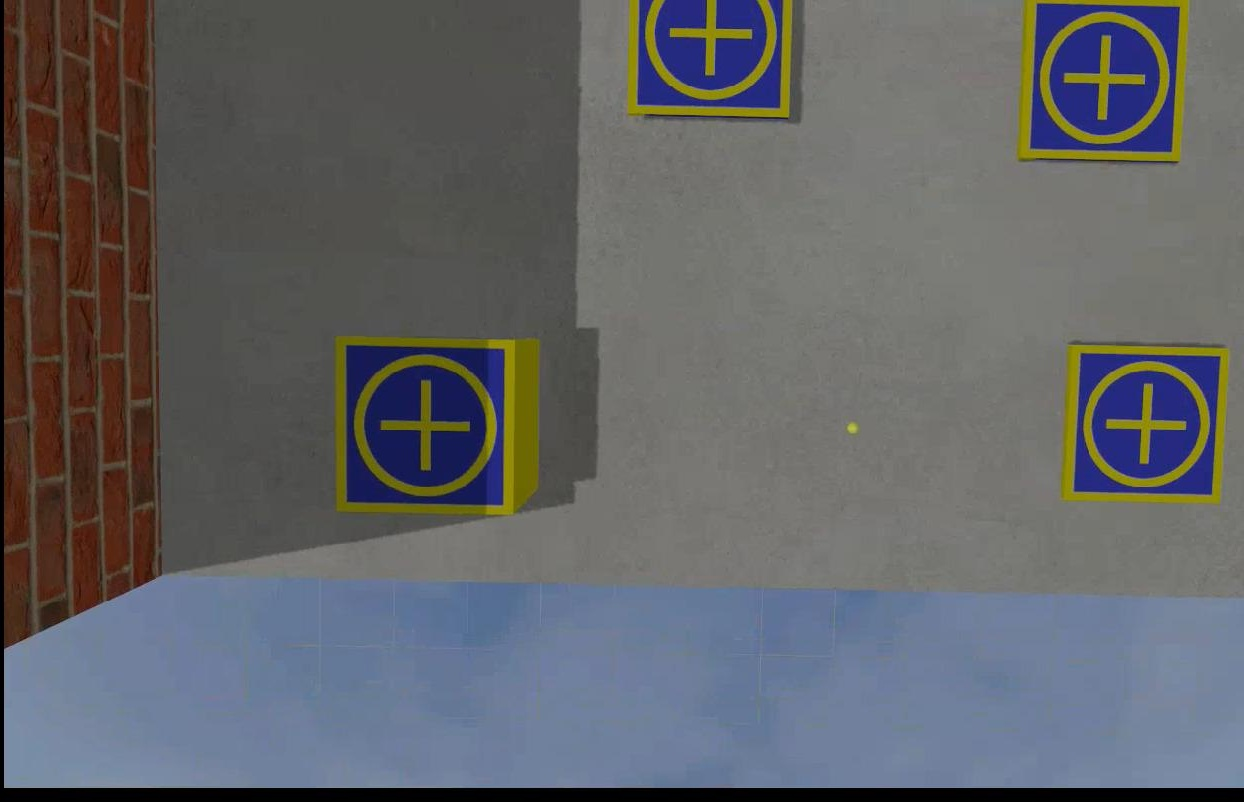small_base: (330, 335, 519, 519), (1054, 340, 1232, 507), (1013, 1, 1192, 163), (626, 1, 790, 118)
